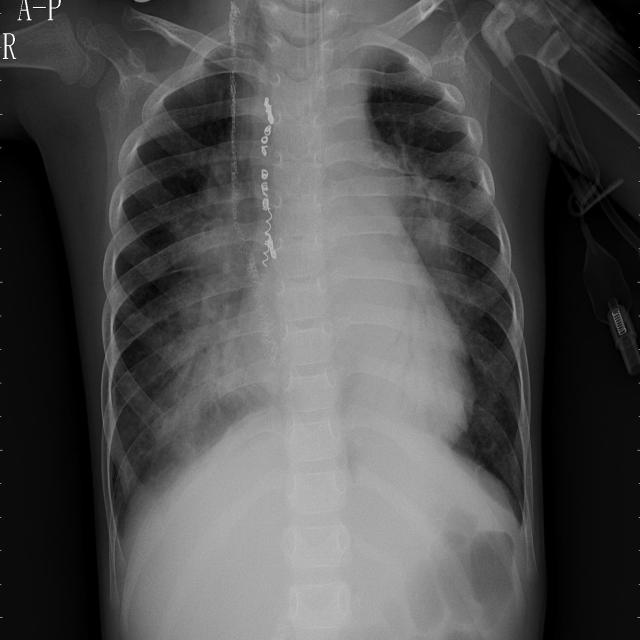high-pneumonia: (148, 42, 278, 482), (372, 142, 477, 333)
